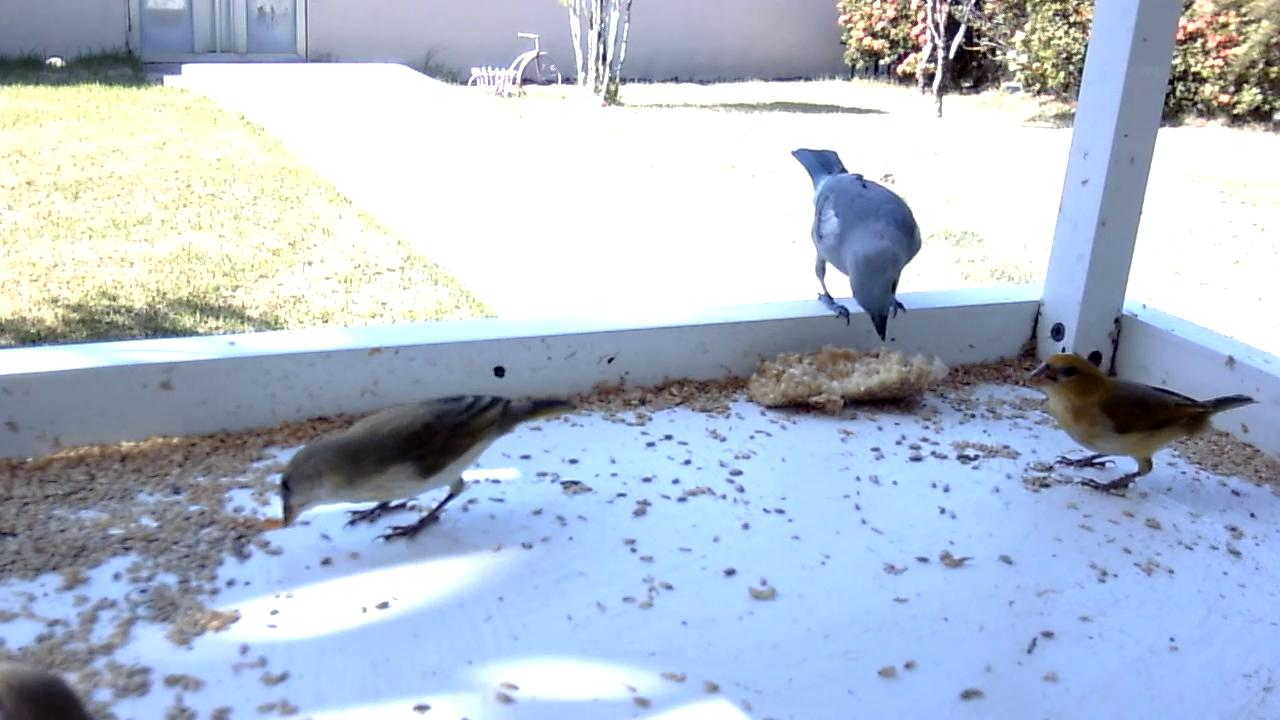canario_do_amazonas: (279, 389, 575, 548), (1024, 352, 1259, 501)
sanhaco_da_amazonia: (788, 144, 924, 347)
